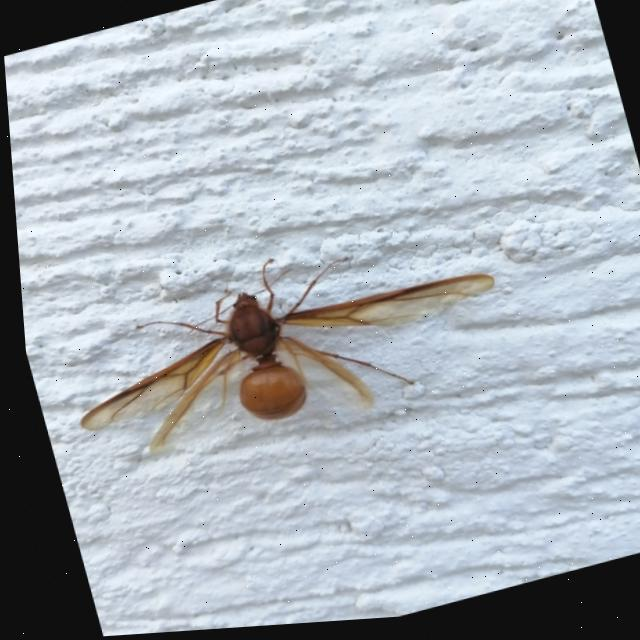Alive-Male-Alate: (43, 210, 518, 486)
